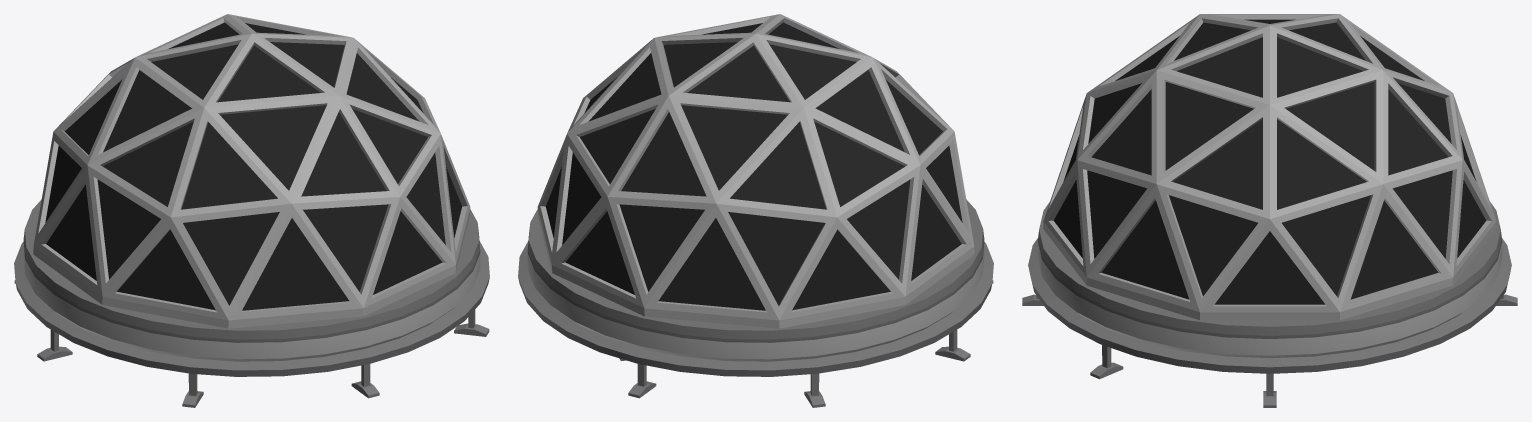
The model's file is Geodesic Dome.glb.
The picture shows the model from 3 angles, left to right: view 1: azimuth 30°, elevation 25°; view 2: azimuth 150°, elevation 25°; view 3: azimuth 270°, elevation 25°; orthographic projection.
Parts seen in each view (by area): view 1: GeodesicDome; view 2: GeodesicDome; view 3: GeodesicDome.
Part boxes in pixels (x1,y1,x2,y2): GeodesicDome: [14, 14, 489, 407]; GeodesicDome: [518, 14, 993, 407]; GeodesicDome: [1022, 14, 1517, 407].
Size of the model in its own units: 8.53 by 5.28 by 8.53.
1 material, 1 textured.
